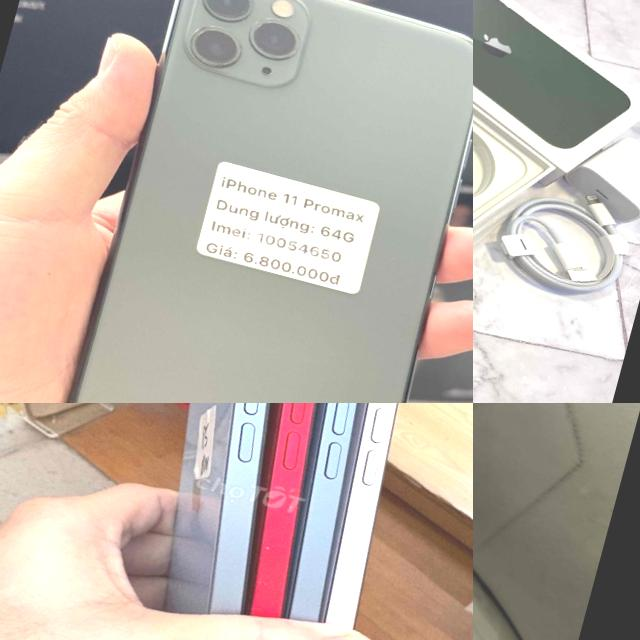gen_11: (48, 0, 473, 403)
gen_14: (65, 403, 353, 640)
